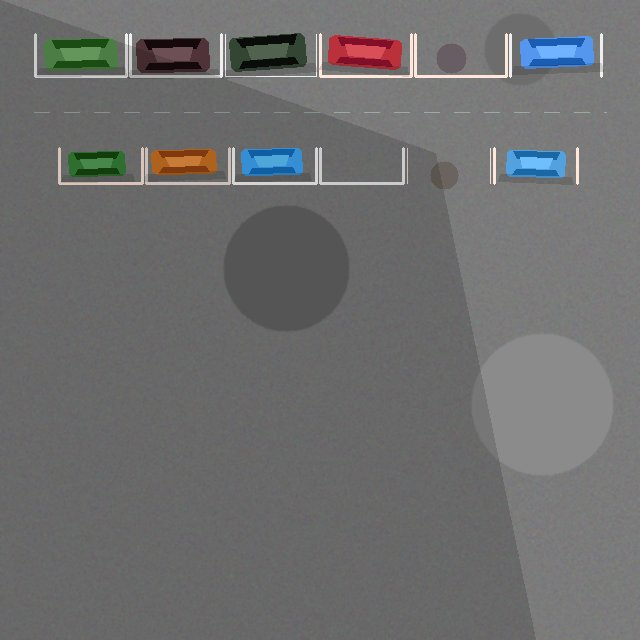space-empty: (415, 34, 506, 76), (320, 148, 403, 183), (407, 148, 490, 183)
space-occupied: (35, 34, 126, 76), (130, 34, 221, 76), (225, 34, 316, 76), (320, 34, 411, 76), (510, 34, 601, 76), (59, 148, 142, 183), (146, 148, 229, 183), (233, 148, 316, 183), (494, 148, 577, 183)
